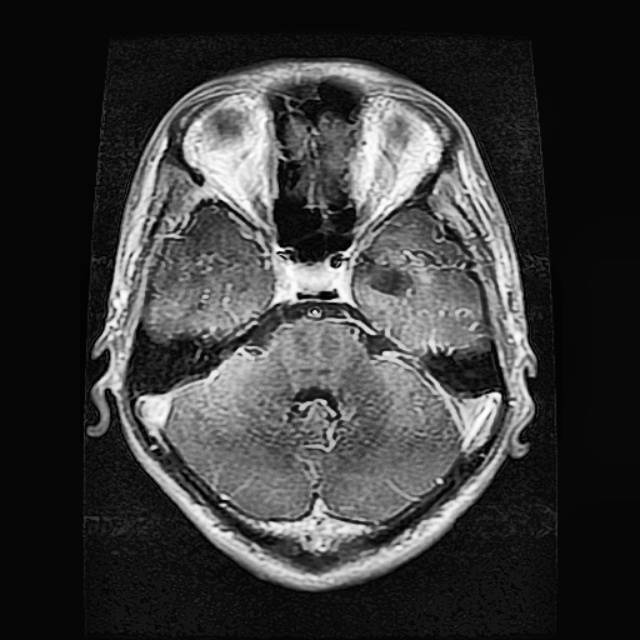Glioma: (357, 224, 414, 293)
